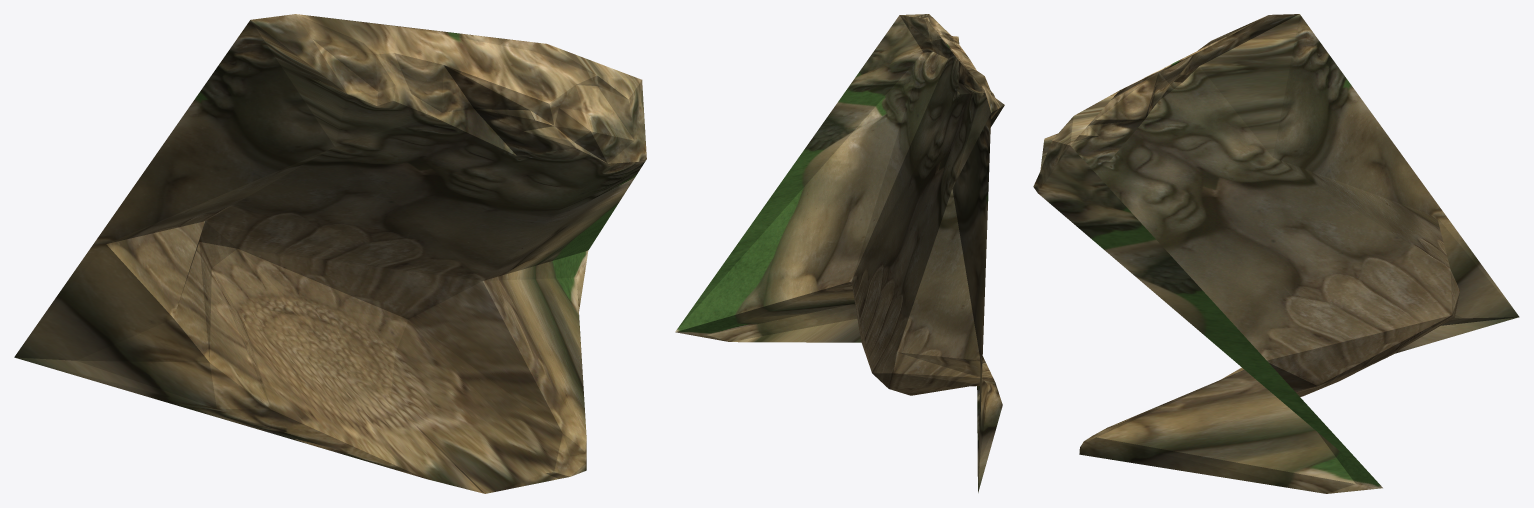
Rendered from model_Statue.obj.
The picture shows the model from 3 angles, left to right: view 1: azimuth 30°, elevation 25°; view 2: azimuth 150°, elevation 25°; view 3: azimuth 270°, elevation 25°; orthographic projection. The views are drawn at different scales.
Bounding box in the file's own units: 0.9617 × 0.814 × 0.9466.
